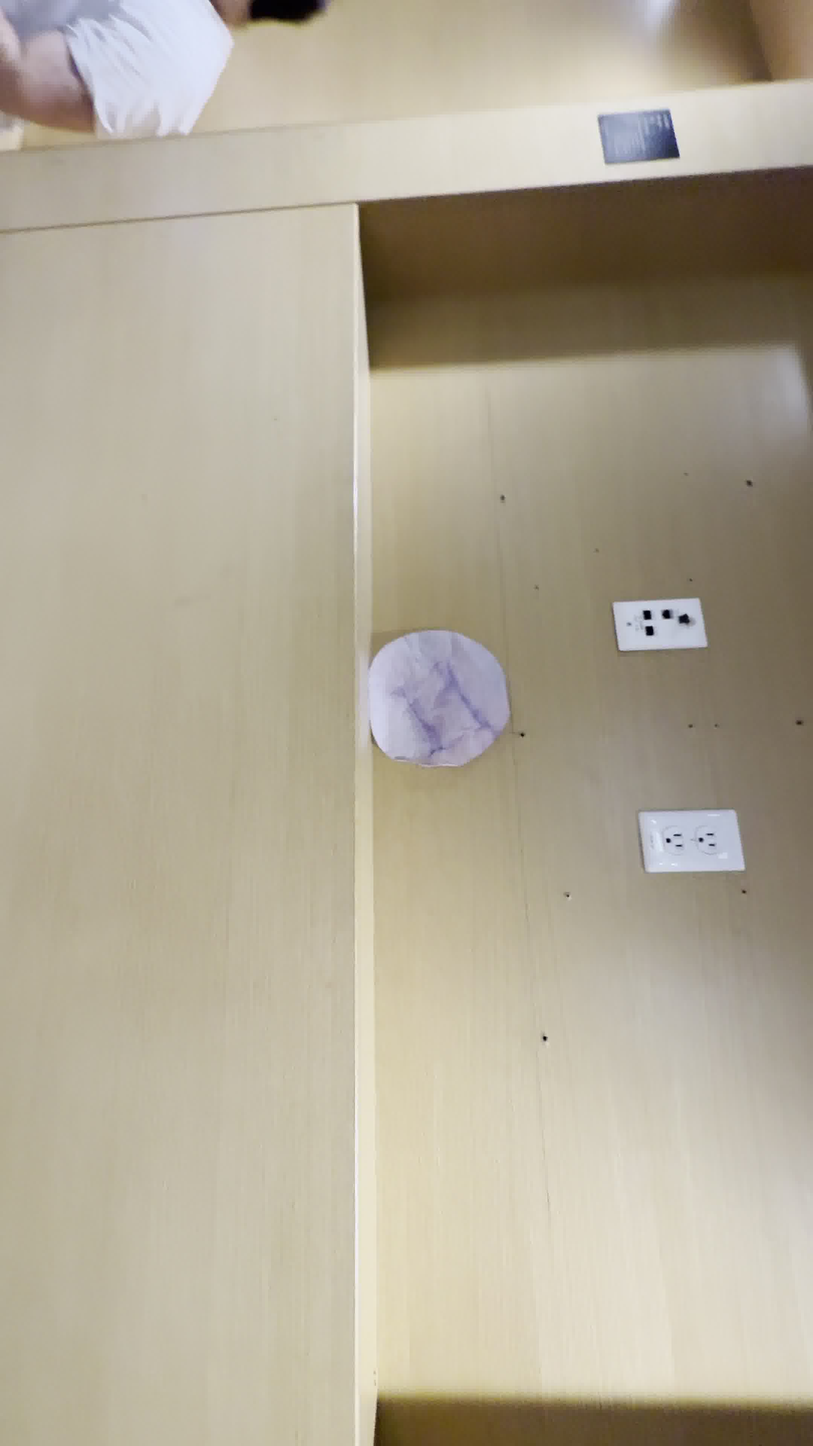Target: (371, 626, 513, 769)
